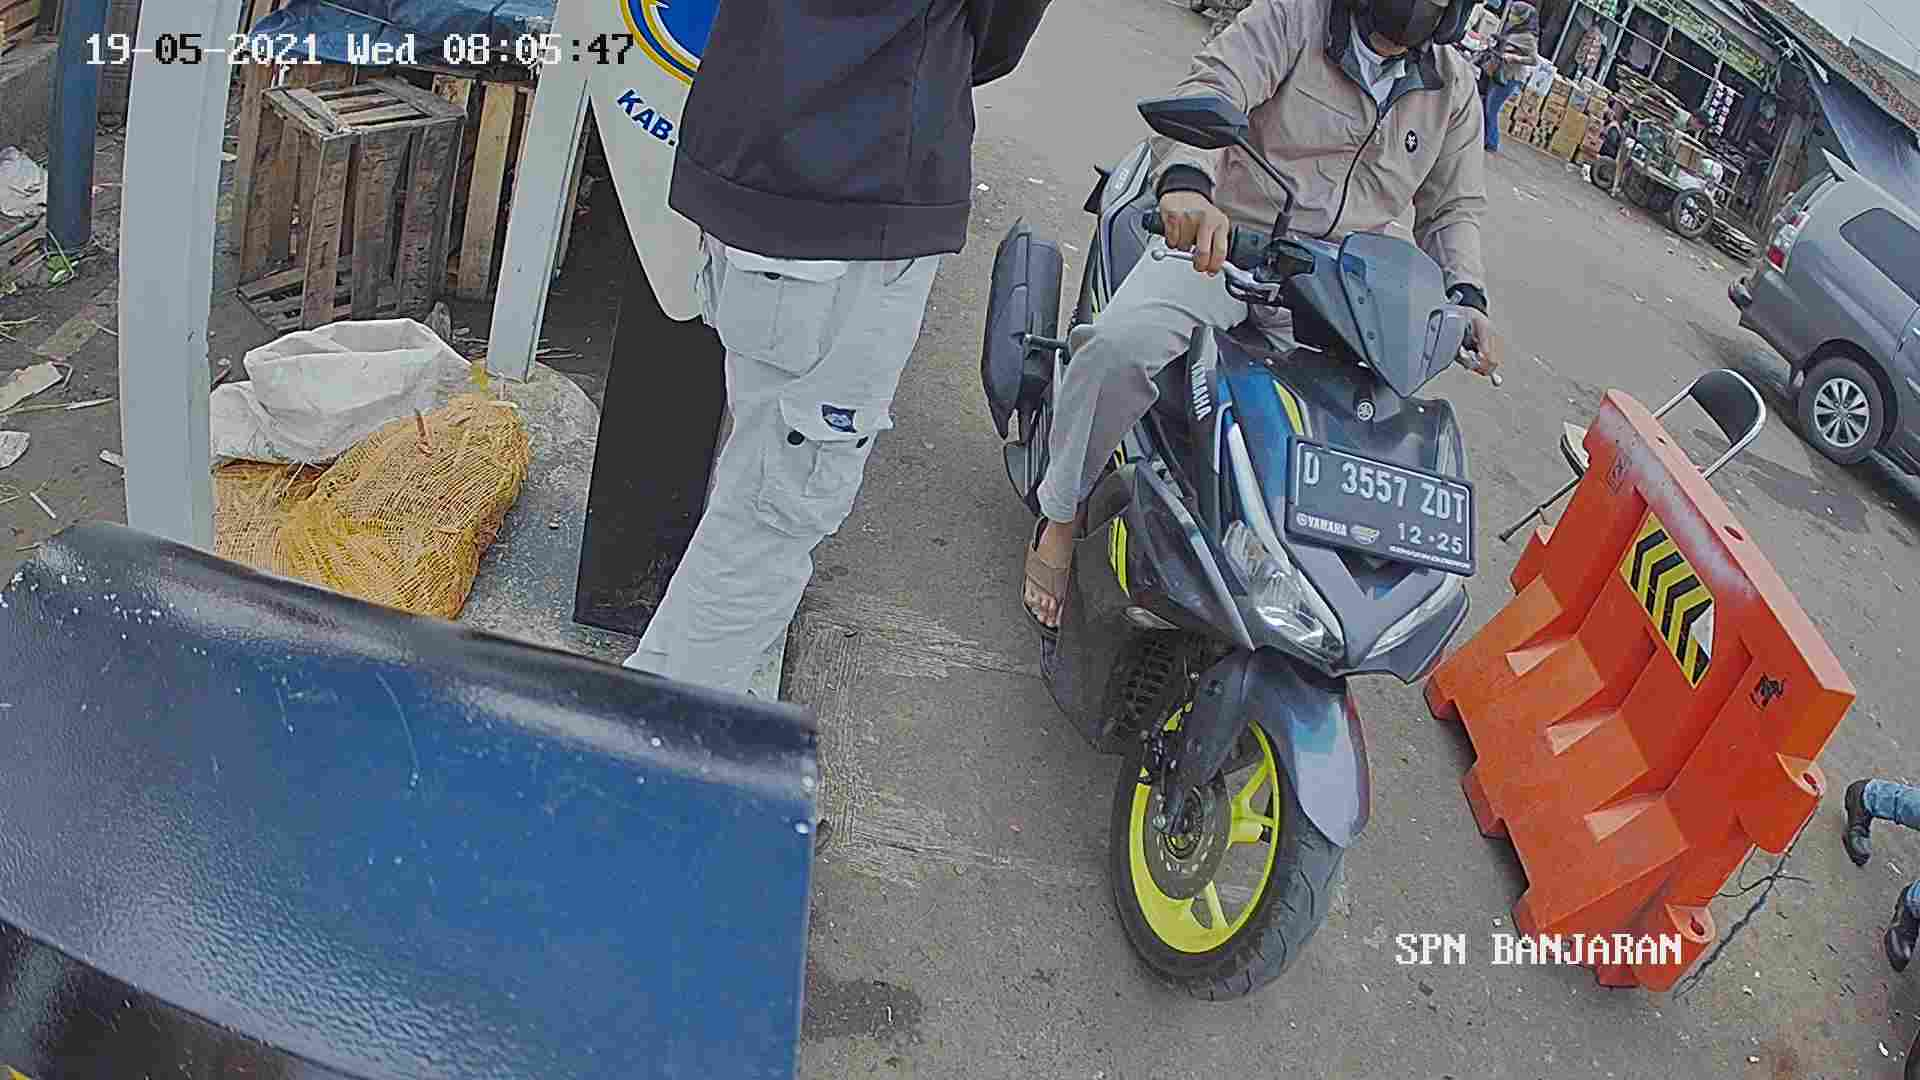motor: (986, 158, 1469, 1007)
